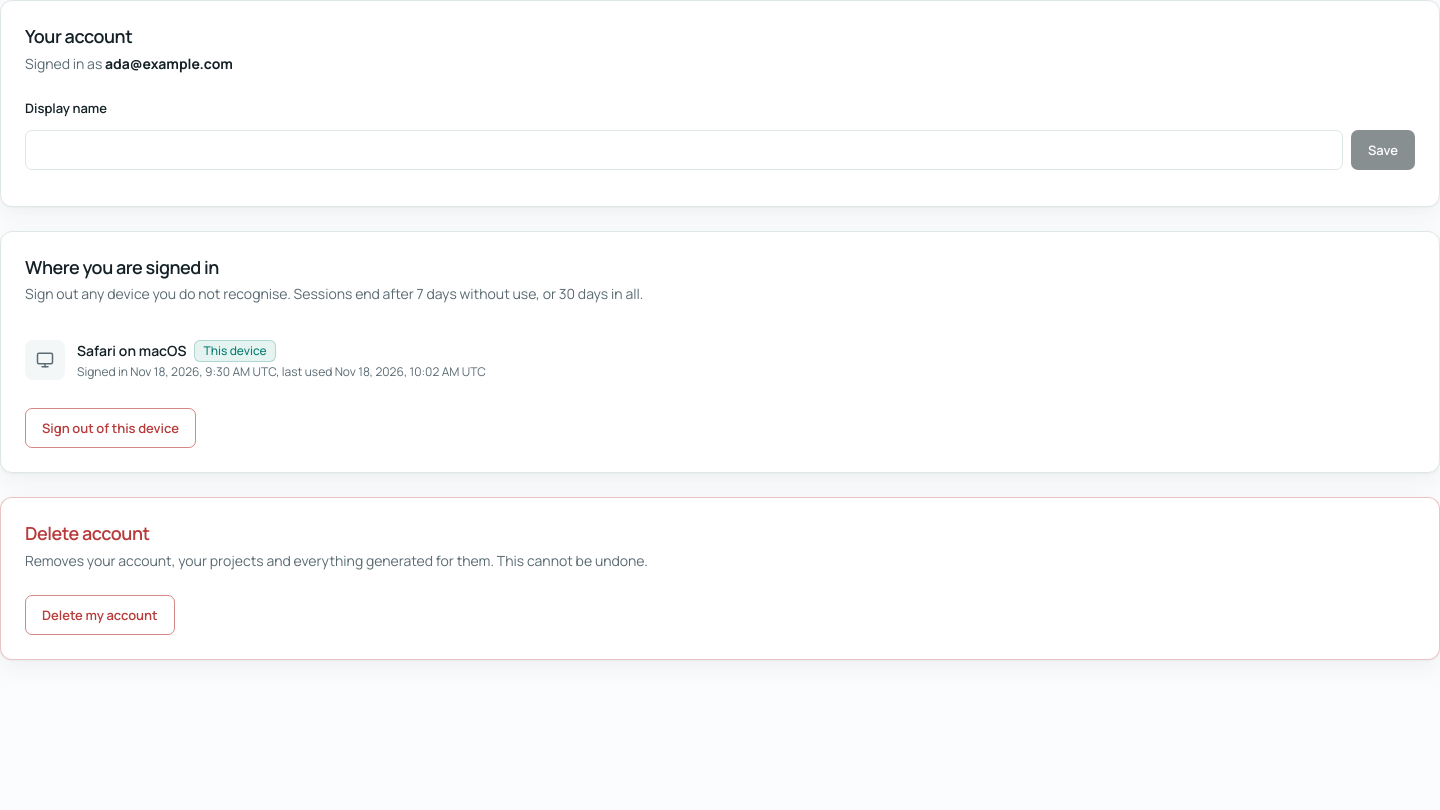
it: AccountView › saves a display name using this session's CSRF token
Expected: the button "Save" is disabled, [1351,130,1415,170]
Type "  Ada Lovelace " into the field labelled "Display name" at coordinates (684, 150), box [25,130,1343,170]
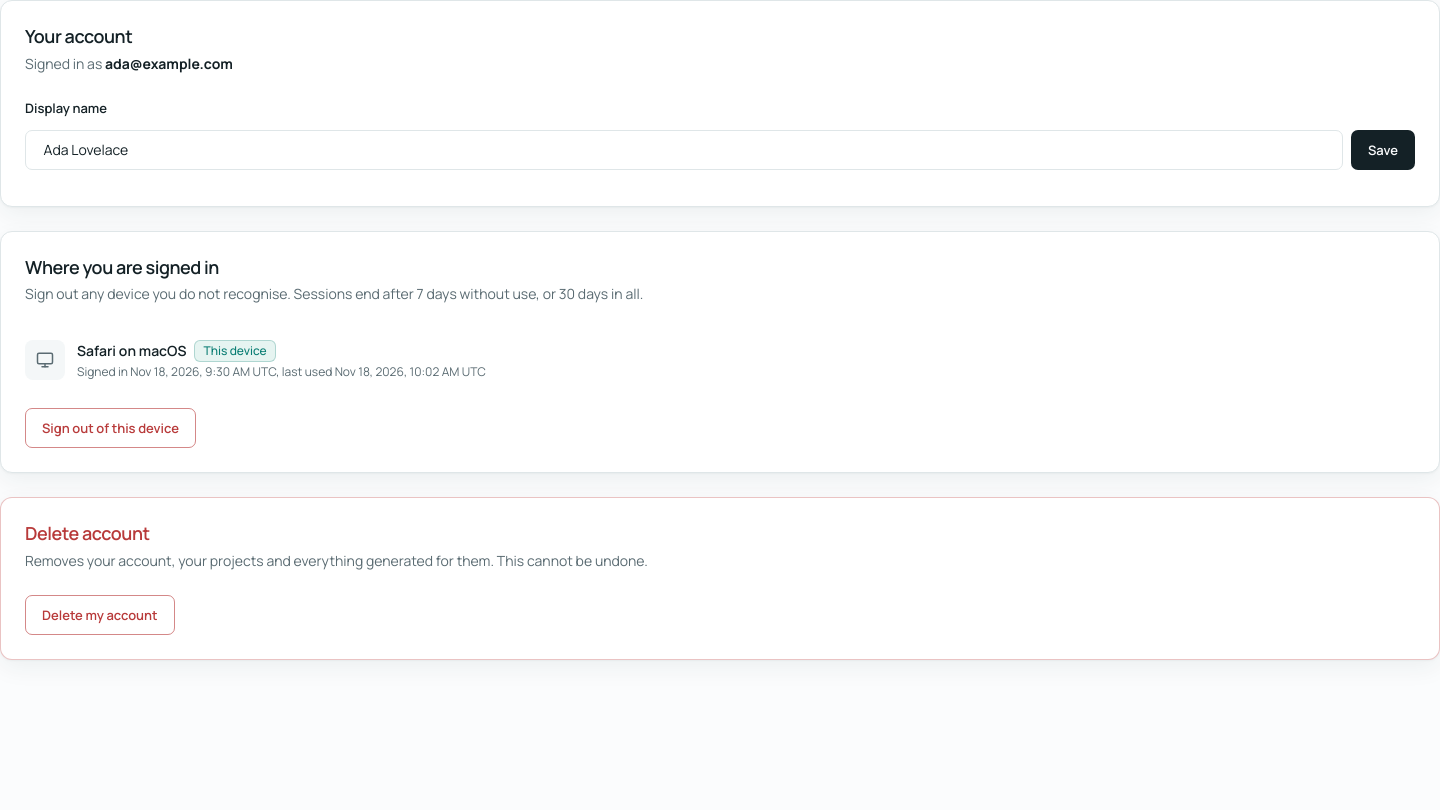
Expected: the button "Save" is enabled
Click the button "Save" at coordinates (1383, 150), box [1351,130,1415,170]
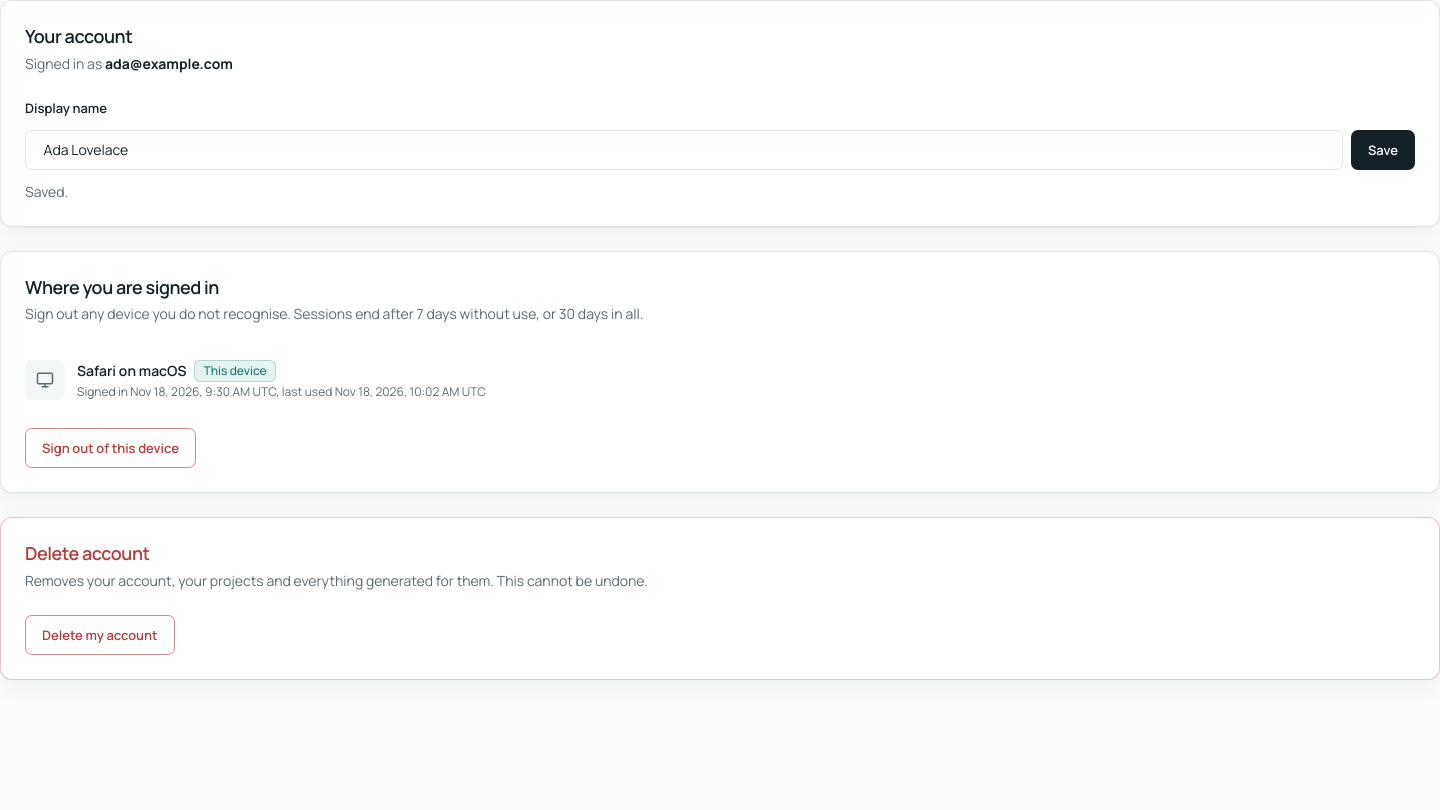
Expected: the message reads "Saved.", [25,182,68,201]
